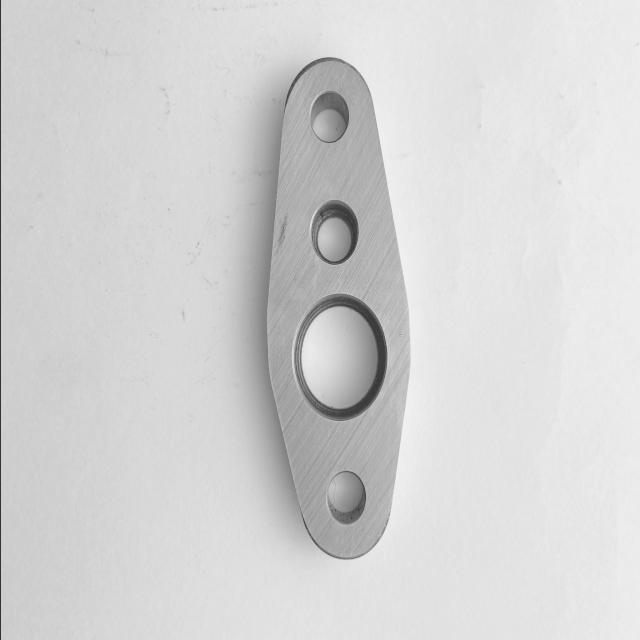chap: (397, 332, 402, 338)
lines: (276, 212, 286, 250)
